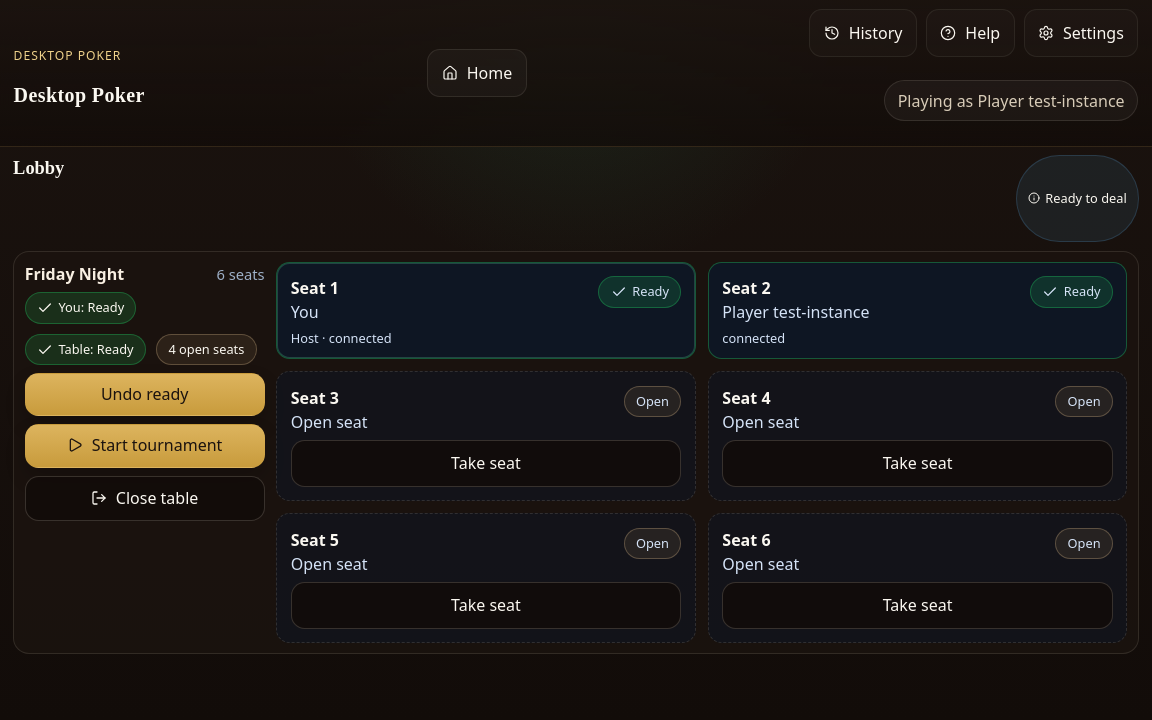
AppShell integration (host and lobby) › keeps the lobby in place when the authoritative host start rejects
The image size is (1152, 720).
Expected: the heading "Lobby" is shown, [13, 158, 64, 178]
Click the button "Start tournament".
click(145, 446)  # box [25, 424, 265, 468]
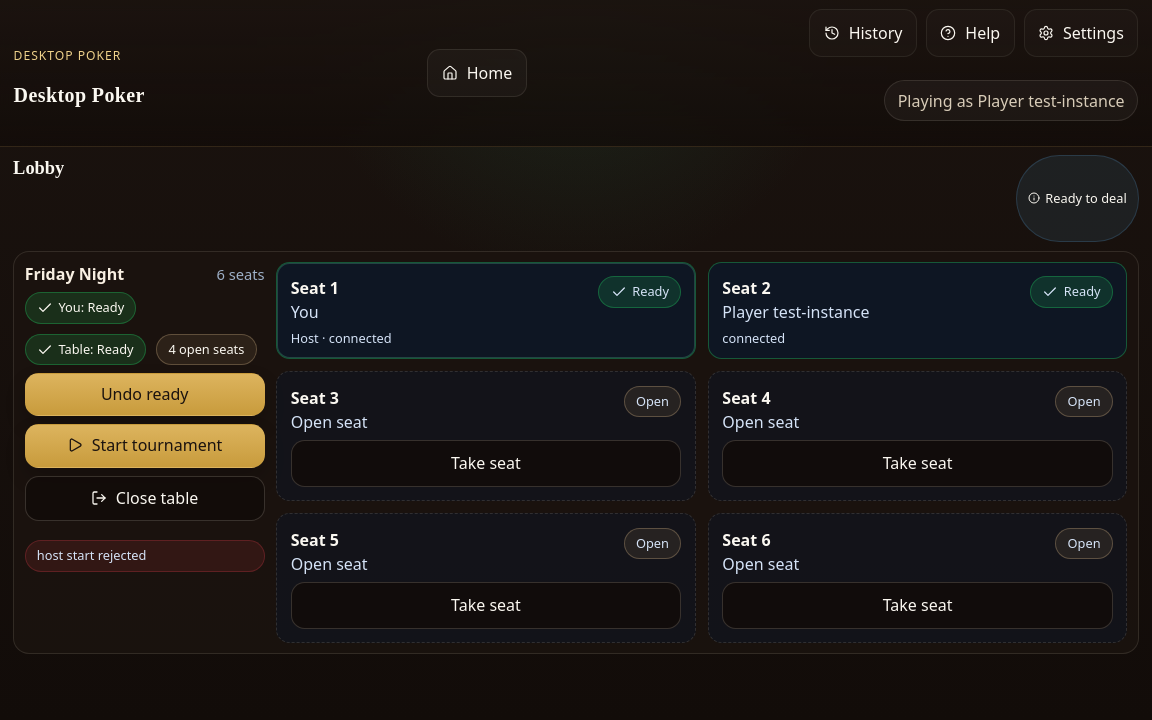
Expected: the heading "Lobby" is shown, [13, 158, 64, 178]
Expected: the text "host start rejected" is shown, [25, 540, 265, 572]
